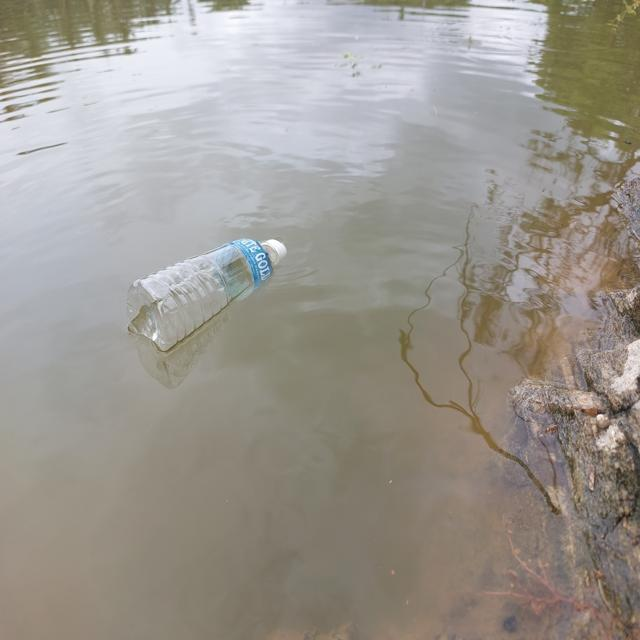waterbottle: (104, 230, 301, 348)
